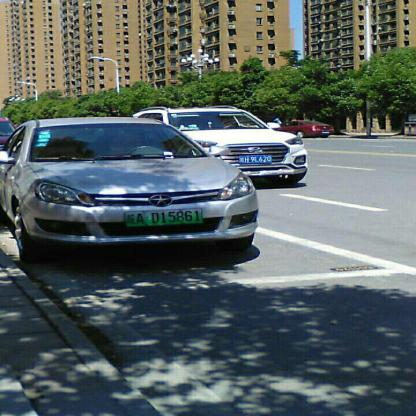lp: (125, 208, 202, 225)
